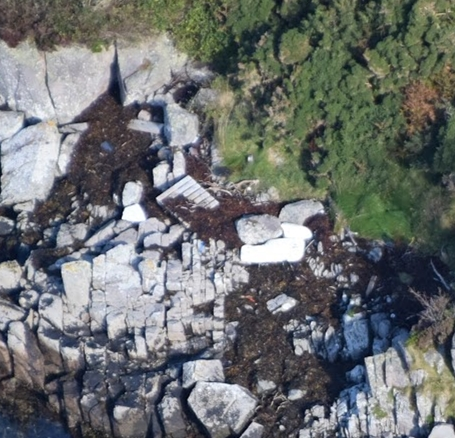cuboid: (150, 172, 223, 231)
white_in_green: (220, 188, 340, 293), (101, 187, 166, 238)
